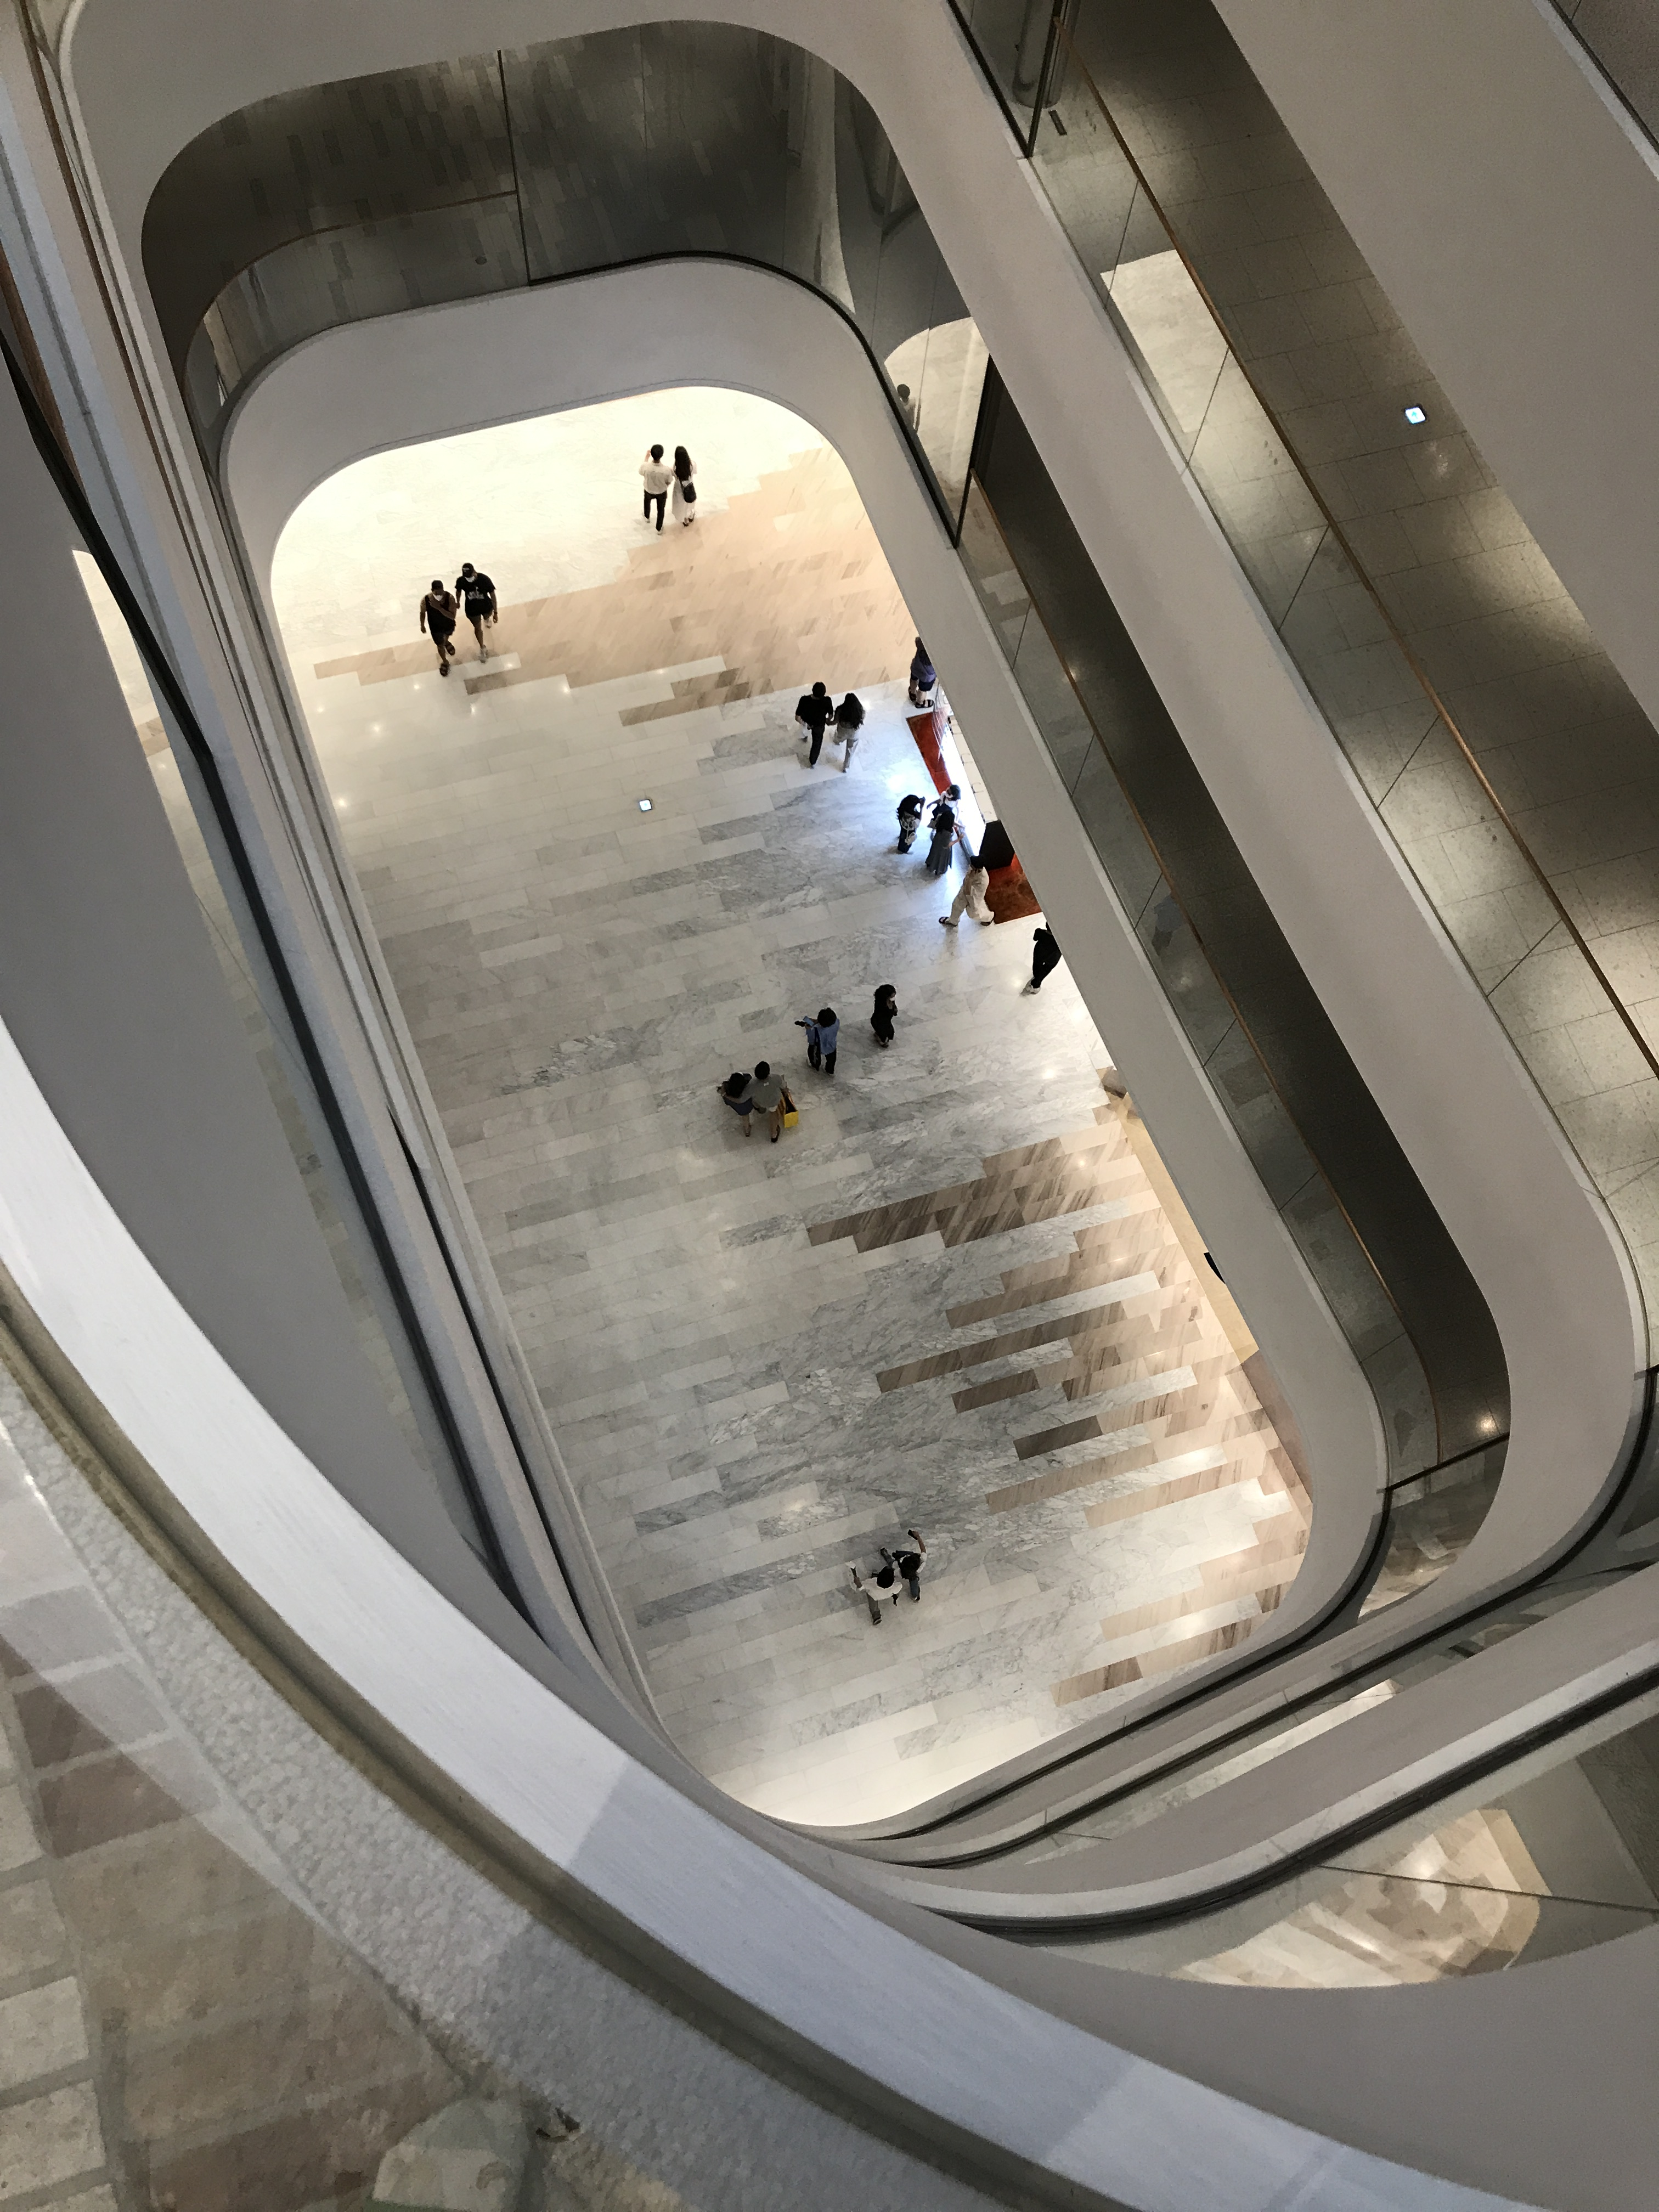person: (453, 563, 498, 662), (938, 856, 996, 928), (747, 1060, 792, 1144), (845, 1560, 901, 1627), (879, 1529, 929, 1604), (420, 578, 455, 676), (794, 681, 831, 769), (795, 1007, 840, 1076), (1022, 921, 1063, 994), (637, 444, 672, 535), (667, 444, 699, 529), (834, 693, 868, 774), (924, 812, 964, 876), (907, 636, 936, 712), (719, 1071, 752, 1136), (893, 793, 926, 856), (930, 785, 963, 843), (870, 983, 898, 1048)
